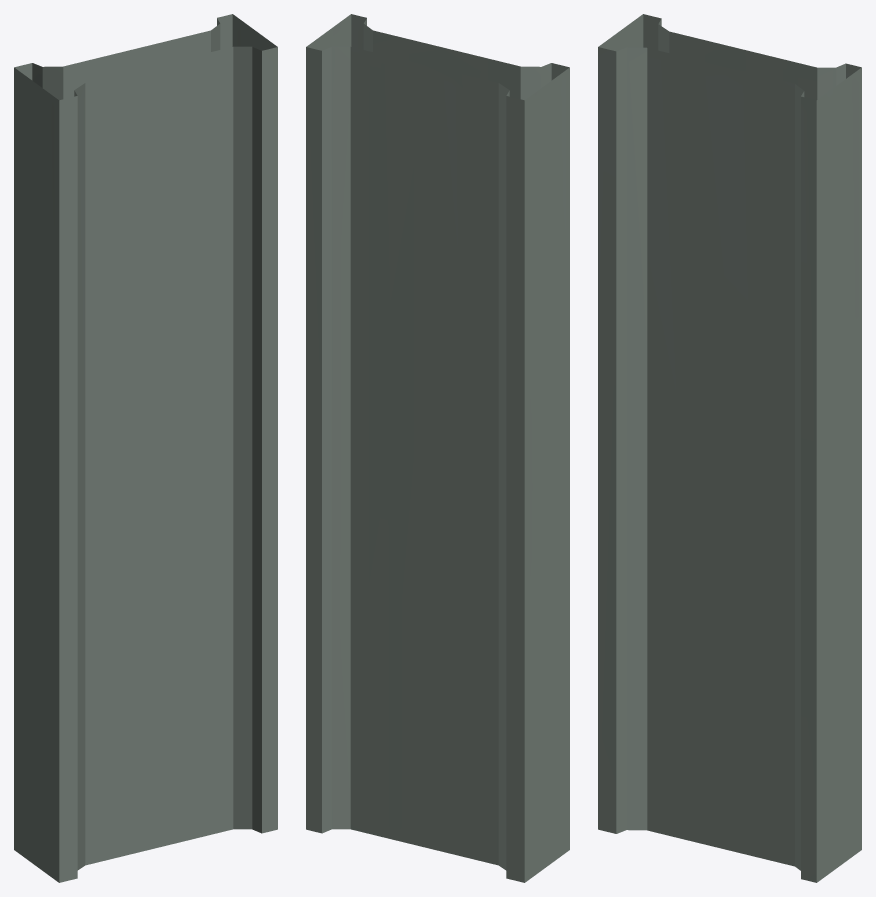
File: SM_metal_short_rod_01.fbx
3 views of the same model, side by side, from view 1: azimuth 30°, elevation 25°; view 2: azimuth 150°, elevation 25°; view 3: azimuth 330°, elevation 25° (orthographic).
Parts seen in each view (by area): view 1: metal_short_rod_01; view 2: metal_short_rod_01; view 3: metal_short_rod_01.
Part boxes in pixels (x1,y1,x2,y2): metal_short_rod_01: (14, 14, 277, 882); metal_short_rod_01: (306, 14, 569, 882); metal_short_rod_01: (598, 14, 861, 882).
Bounding box in the file's own units: 48.93 × 167 × 17.46.
